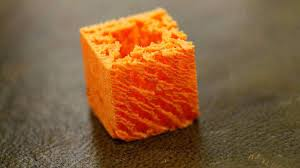3dpunderextrusion: (125, 75, 191, 133), (148, 13, 201, 68), (88, 22, 138, 69)
